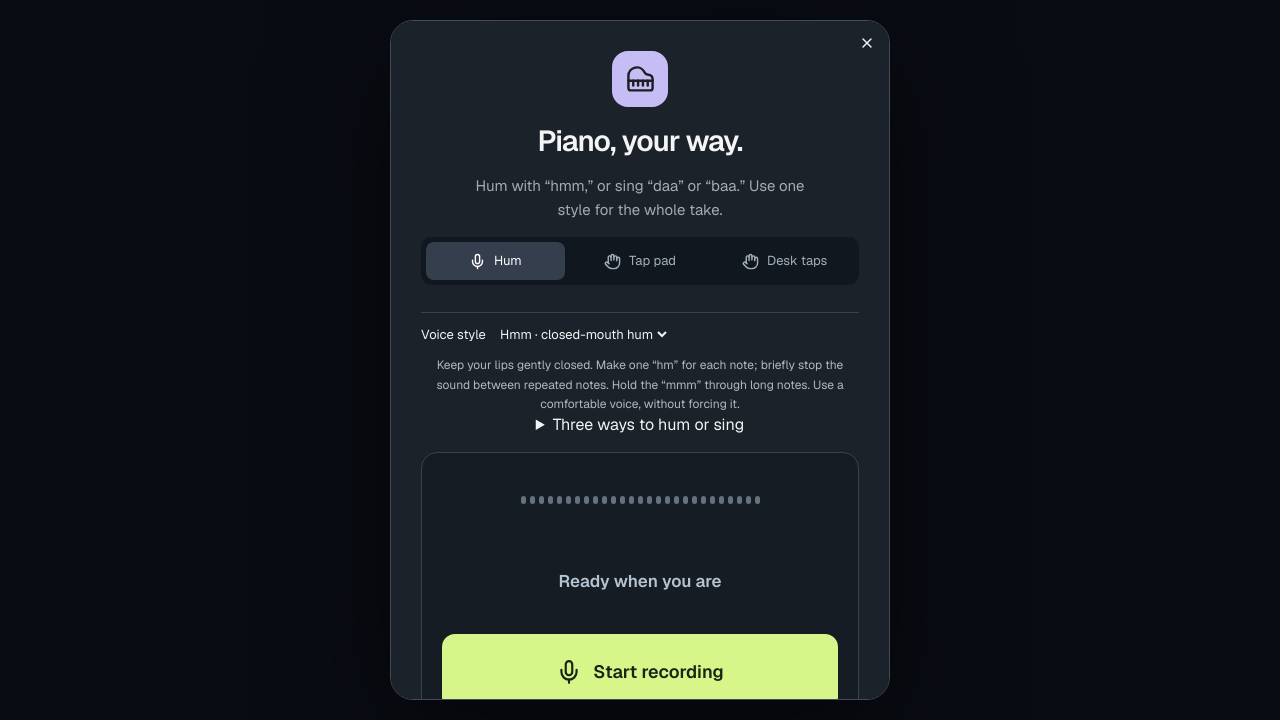
Test: tap input can audition layered piano and strings while keeping the original idea
Later steps or results of the test are not shown.
Click the button "Tap pad".
click(640, 261)  # box [571,242,709,280]
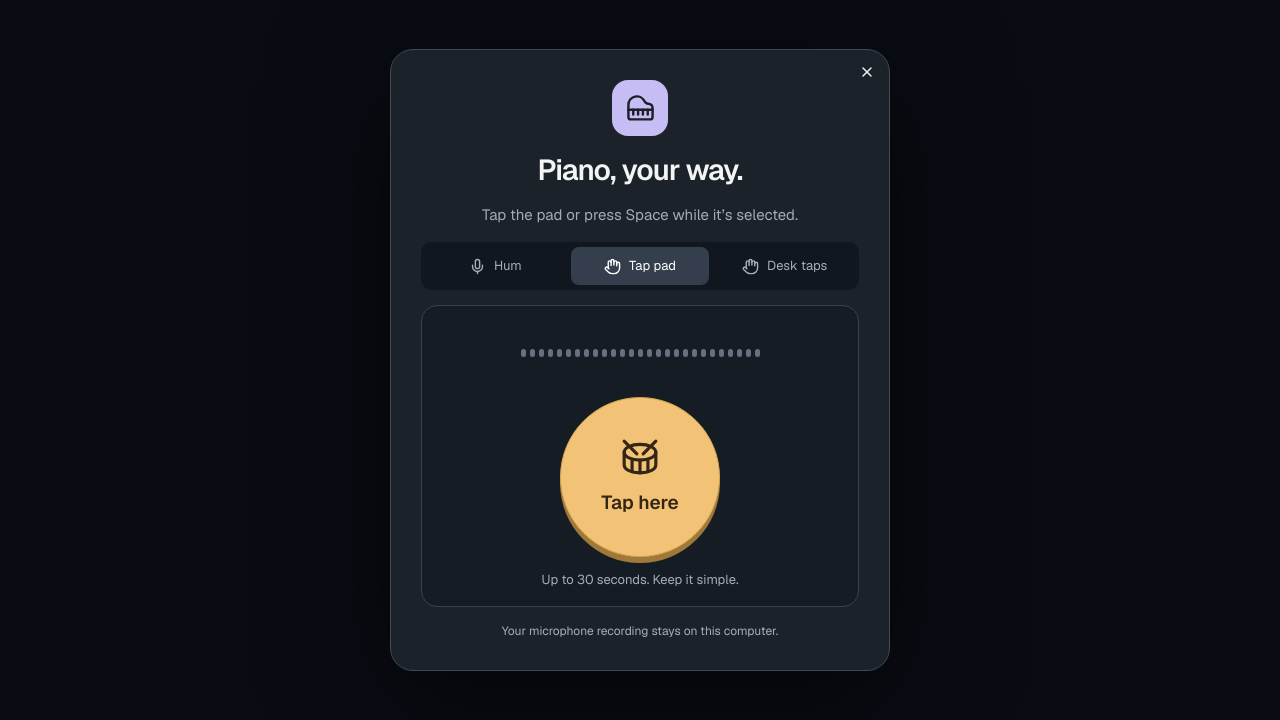
Click the button with aria-label "Tap rhythm pad".
click(640, 477)  # box [560,397,720,557]
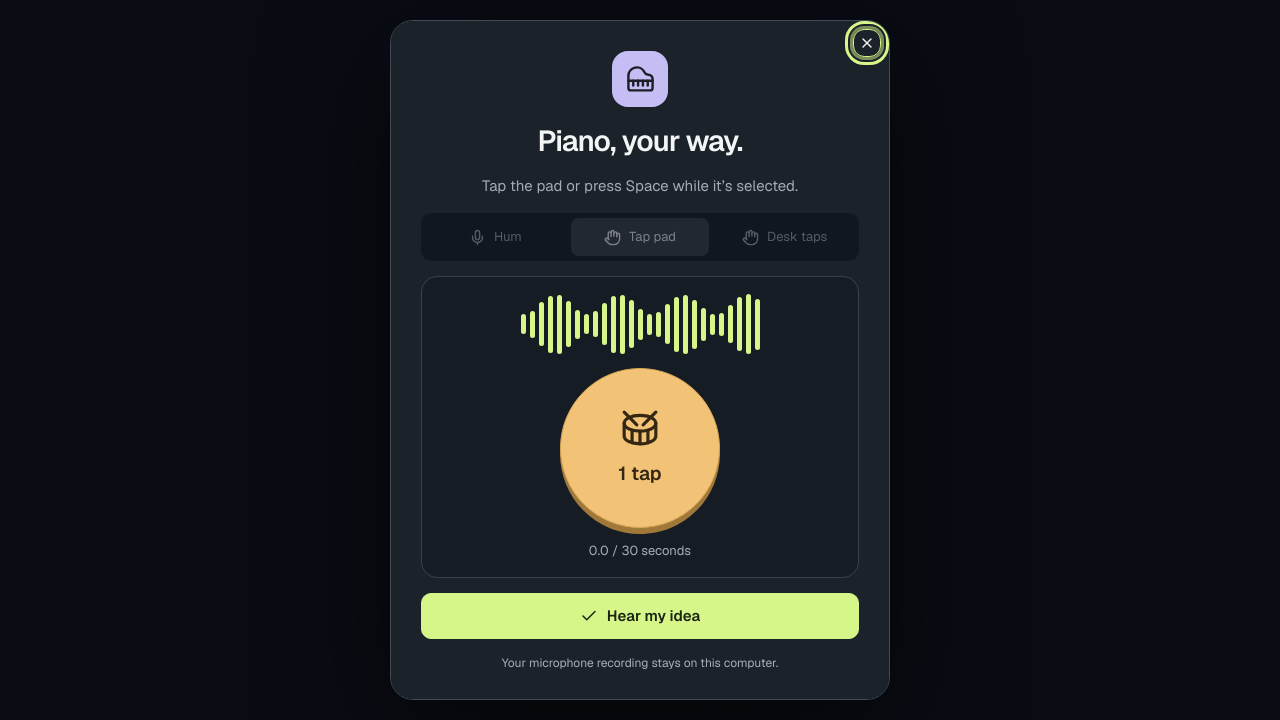
Result: the text "1 tap" is shown at [618,460,662,487]
